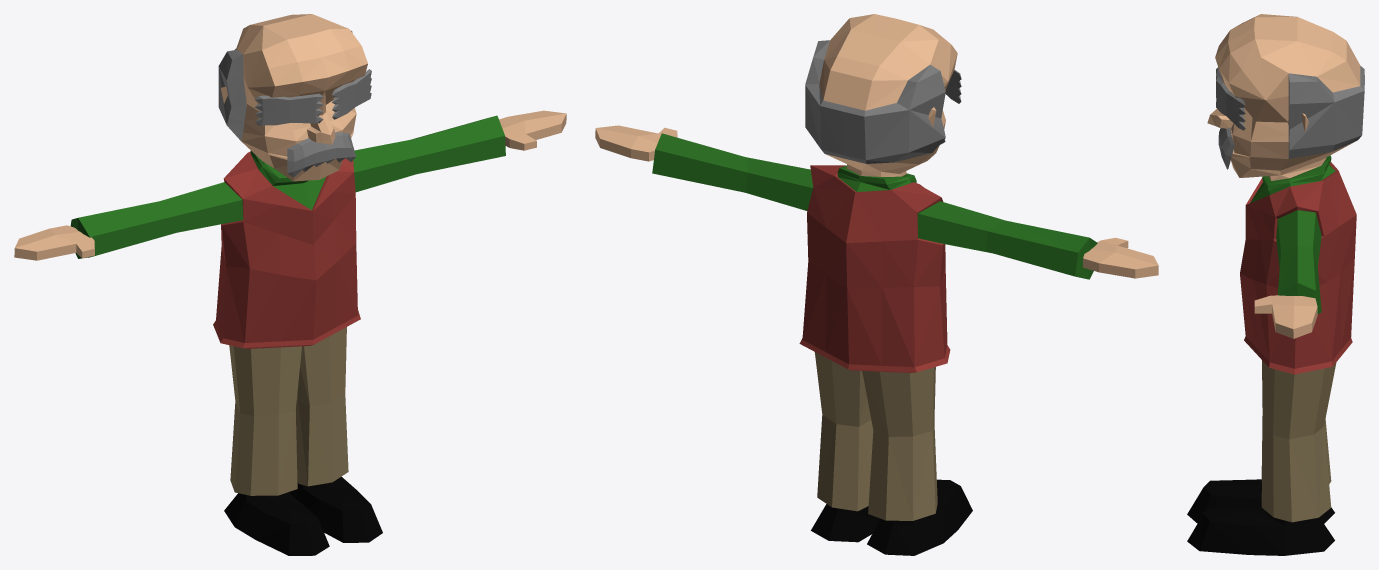
File: oldman_blender_export.fbx
3 views of the same model, side by side, from view 1: azimuth 30°, elevation 25°; view 2: azimuth 150°, elevation 25°; view 3: azimuth 270°, elevation 25° (orthographic). The views are drawn at different scales.
Visible parts, largest first — view 1: Cube, hands.001, hands; view 2: Cube, hands.001, hands; view 3: Cube, hands.
Part boxes in pixels (box(x1,y1,x2,y2)): Cube: box(70, 14, 505, 555); hands.001: box(14, 225, 94, 260); hands: box(499, 110, 566, 150); Cube: box(652, 14, 1097, 555); hands.001: box(1083, 237, 1158, 278); hands: box(595, 125, 677, 161); Cube: box(1187, 14, 1364, 555); hands: box(1254, 295, 1317, 338).
Bounding box in the file's own units: 739 × 632 × 202.
